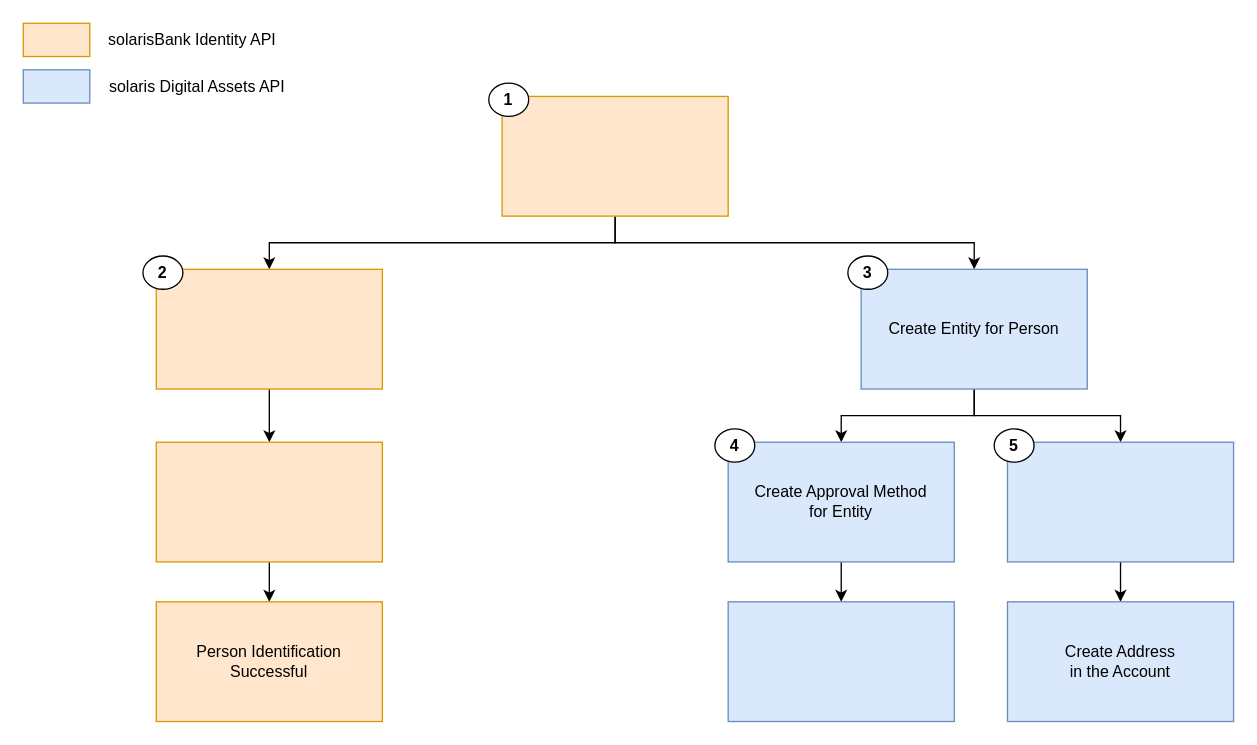
This 1257x745 diagram has some shape labels left out. The box of each missing label's shape, as (x1, y1, x2, y2) in pixels:
Approval Method for Entity Activated: (727, 600, 954, 722)
Create Account for Entity: (1006, 441, 1234, 562)
Create Person: (501, 95, 728, 216)
Create Person Identification: (155, 268, 382, 389)
Request Person Identification: (155, 441, 382, 562)
